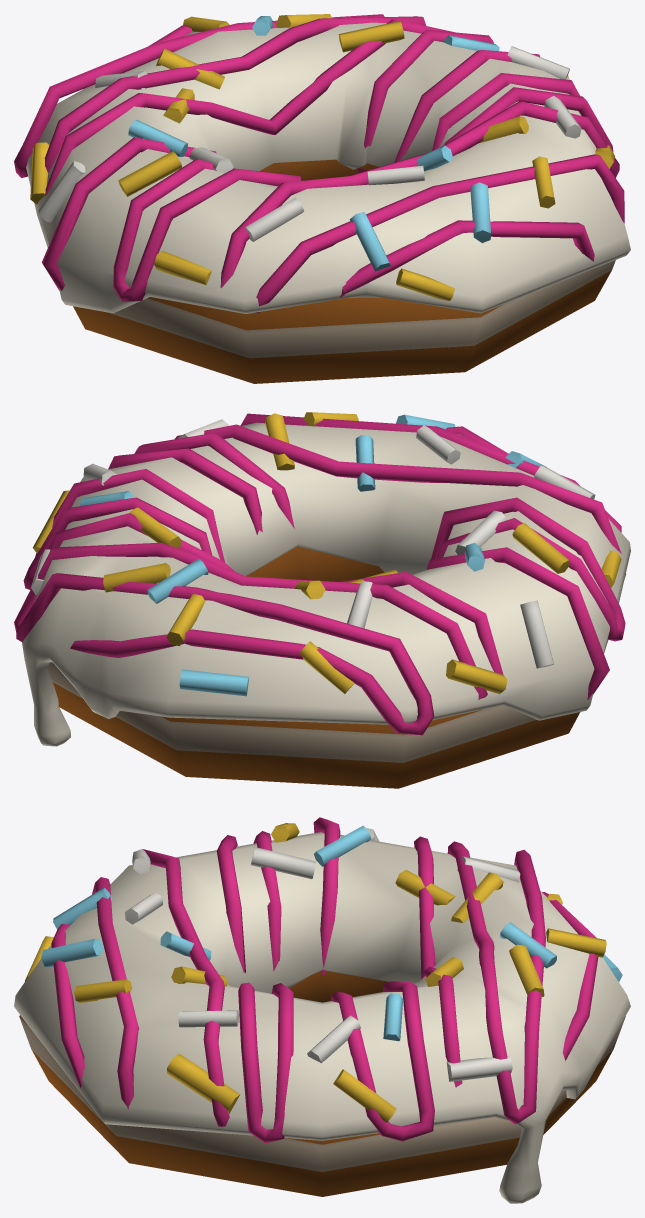
The model's file is x_donut.fbx.
3 renders of one model, top to bottom at view 1: azimuth 30°, elevation 25°; view 2: azimuth 150°, elevation 25°; view 3: azimuth 270°, elevation 25°, orthographic. The views are drawn at different scales.
Parts seen in each view (by area): view 1: x_donut_baked; view 2: x_donut_baked; view 3: x_donut_baked.
Part boxes in pixels (x1,y1,x2,y2): x_donut_baked: (14,14,630,383); x_donut_baked: (14,412,630,788); x_donut_baked: (14,817,630,1203).
Bounding box in the file's own units: 0.85 × 0.3097 × 0.8341.
